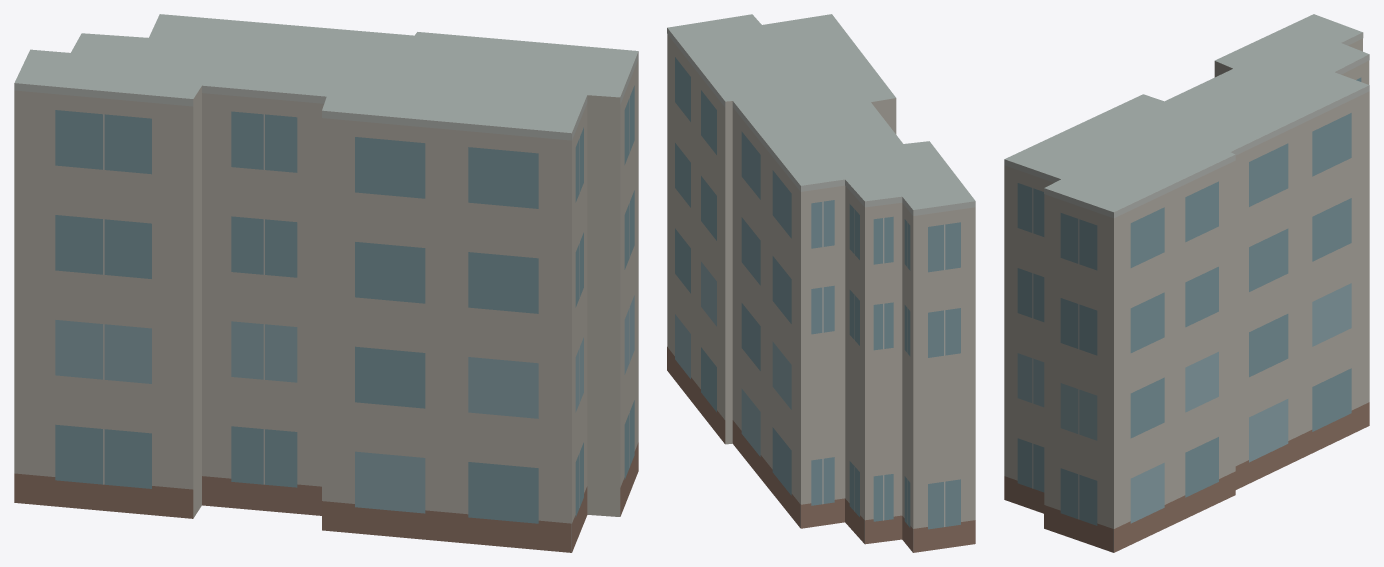
Rendered from survey-upis-32917897.glb.
3 renders of one model, left to right at view 1: azimuth 30°, elevation 25°; view 2: azimuth 150°, elevation 25°; view 3: azimuth 270°, elevation 25°, orthographic. The views are drawn at different scales.
Parts seen in each view (by area): view 1: survey-upis-32917897.tmp; view 2: survey-upis-32917897.tmp; view 3: survey-upis-32917897.tmp.
Boxes of the visible parts, box(x1,y1,x2,y2) form: survey-upis-32917897.tmp: box(14, 14, 638, 552); survey-upis-32917897.tmp: box(667, 14, 975, 552); survey-upis-32917897.tmp: box(1004, 14, 1369, 552).
Size of the model in its own units: 17.25 by 13.8 by 13.43.
